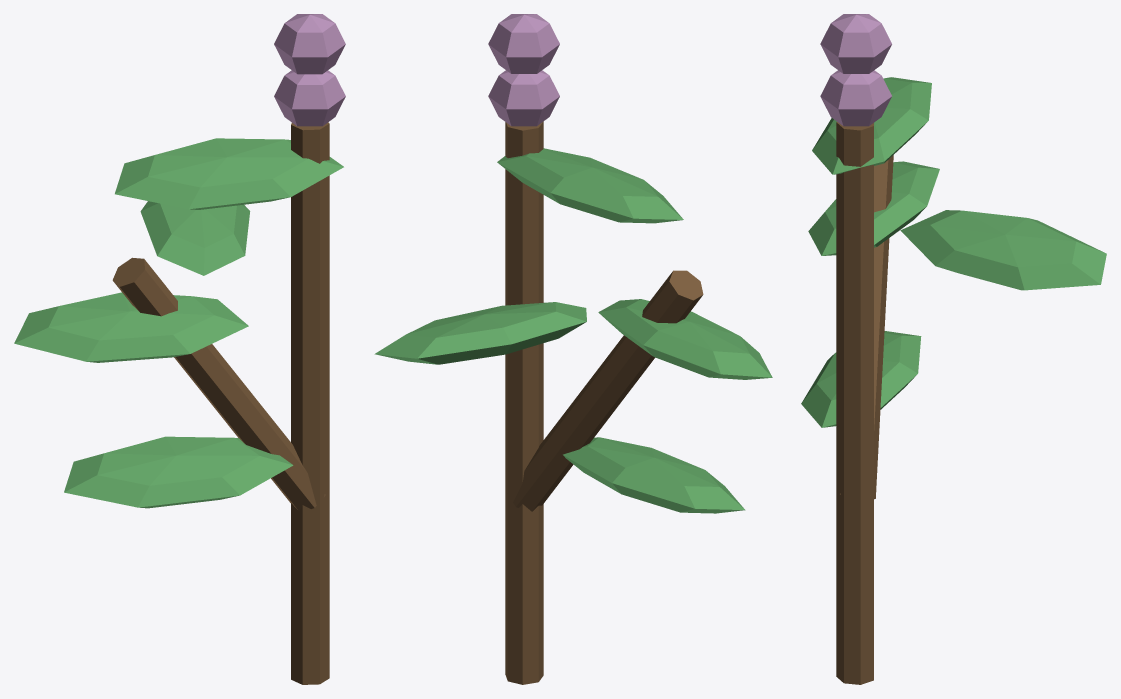
File: tulsi-lod1.glb
The picture shows the model from 3 angles, left to right: view 1: azimuth 30°, elevation 25°; view 2: azimuth 150°, elevation 25°; view 3: azimuth 270°, elevation 25°; orthographic projection.
Visible parts, largest first — view 1: Tulsi_Stem_0.001, Tulsi_Leaf_0.001, Tulsi_Leaf_3.001, Tulsi_Leaf_1.001, Tulsi_Stem_1.001, Tulsi_Leaf_2.001, Tulsi_Flower_1.001, Tulsi_Flower_0.001; view 2: Tulsi_Stem_0.001, Tulsi_Stem_1.001, Tulsi_Leaf_2.001, Tulsi_Leaf_3.001, Tulsi_Leaf_0.001, Tulsi_Leaf_1.001, Tulsi_Flower_1.001, Tulsi_Flower_0.001; view 3: Tulsi_Stem_0.001, Tulsi_Leaf_2.001, Tulsi_Leaf_3.001, Tulsi_Leaf_1.001, Tulsi_Leaf_0.001, Tulsi_Flower_1.001, Tulsi_Stem_1.001, Tulsi_Flower_0.001.
Part boxes in pixels (x1,y1,x2,y2): Tulsi_Stem_0.001: (291,122,329,684); Tulsi_Leaf_0.001: (64,436,293,508); Tulsi_Leaf_3.001: (115,138,343,209); Tulsi_Leaf_1.001: (14,292,248,362); Tulsi_Stem_1.001: (112,257,325,510); Tulsi_Leaf_2.001: (140,201,250,275); Tulsi_Flower_1.001: (274,14,345,74); Tulsi_Flower_0.001: (274,70,345,126); Tulsi_Stem_0.001: (505,121,543,684); Tulsi_Stem_1.001: (513,270,703,511); Tulsi_Leaf_2.001: (374,302,586,364); Tulsi_Leaf_3.001: (497,148,683,223); Tulsi_Leaf_0.001: (563,437,745,513); Tulsi_Leaf_1.001: (598,299,772,379); Tulsi_Flower_1.001: (488,14,559,73); Tulsi_Flower_0.001: (488,70,559,126); Tulsi_Stem_0.001: (836,122,873,684); Tulsi_Leaf_2.001: (900,210,1106,290); Tulsi_Leaf_3.001: (812,77,931,174); Tulsi_Leaf_1.001: (808,161,939,255); Tulsi_Leaf_0.001: (801,331,921,427); Tulsi_Flower_1.001: (820,14,891,73); Tulsi_Stem_1.001: (839,155,893,499); Tulsi_Flower_0.001: (820,70,891,126).
Size of the model in its own units: 0.9618 by 2.03 by 0.8499.
